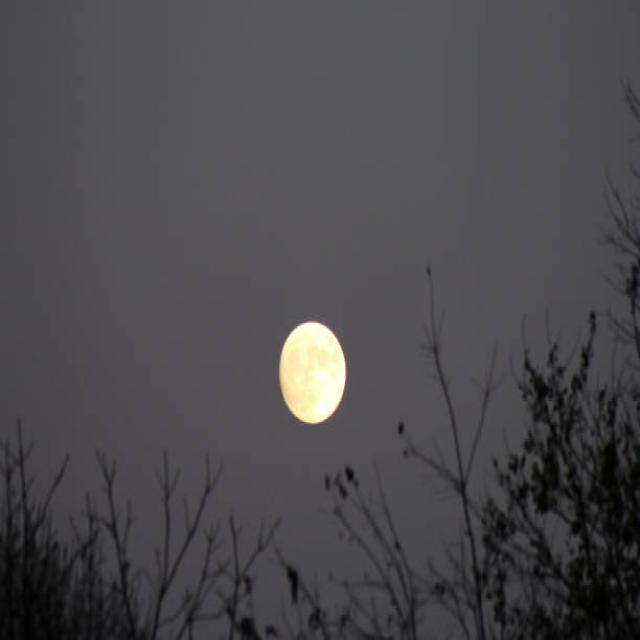moon: (276, 317, 348, 427)
